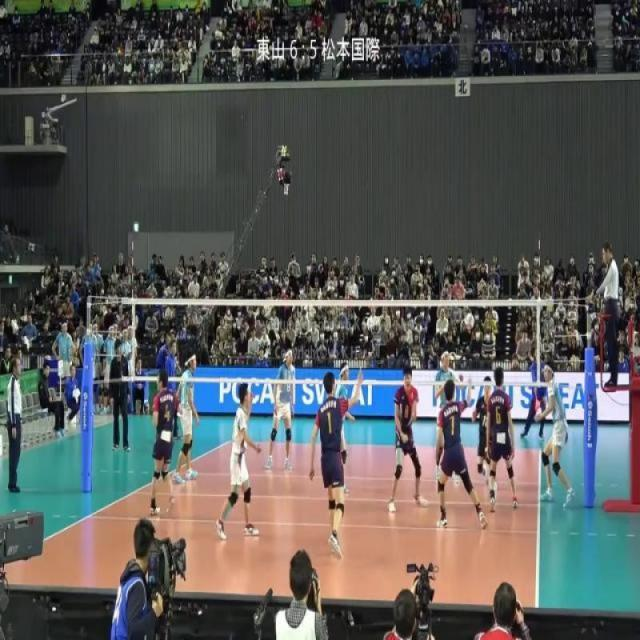volleyball: (464, 312, 475, 331)
